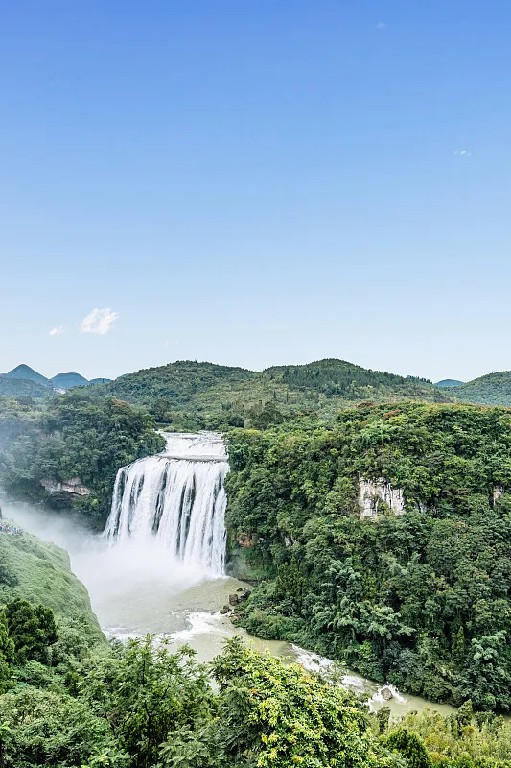Huangguoshu: (99, 429, 229, 572)
